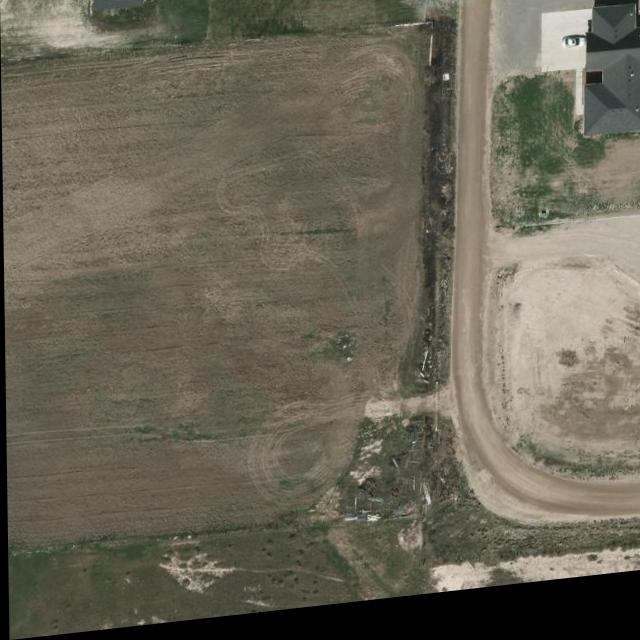vehicle: (563, 50, 586, 63)
